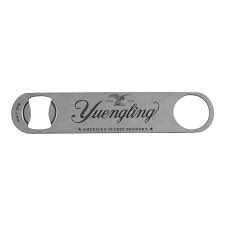bottleopener: (10, 92, 215, 134)
